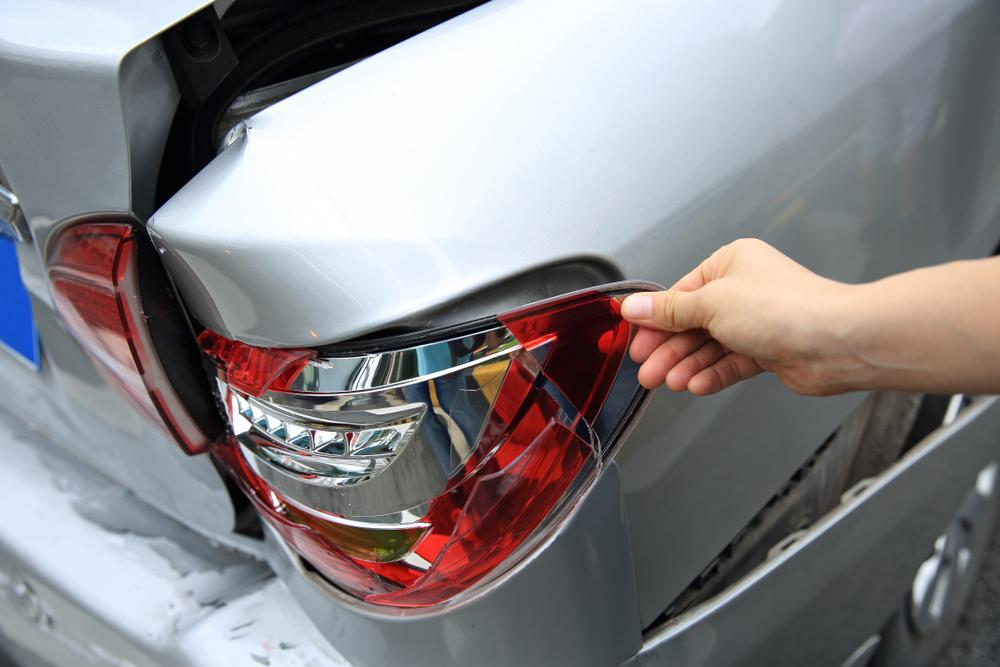lamp broken: (195, 258, 630, 608)
